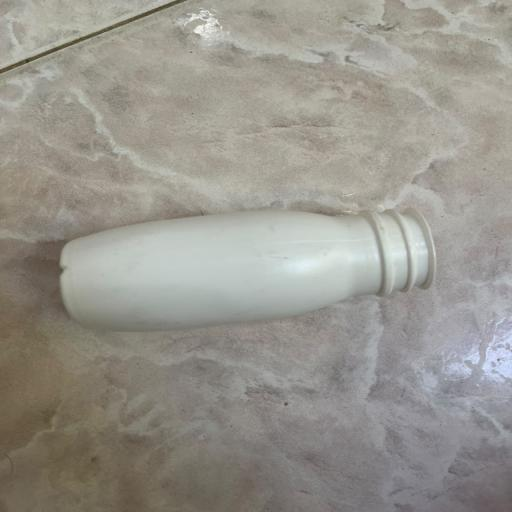HDPE: (48, 199, 472, 356)
